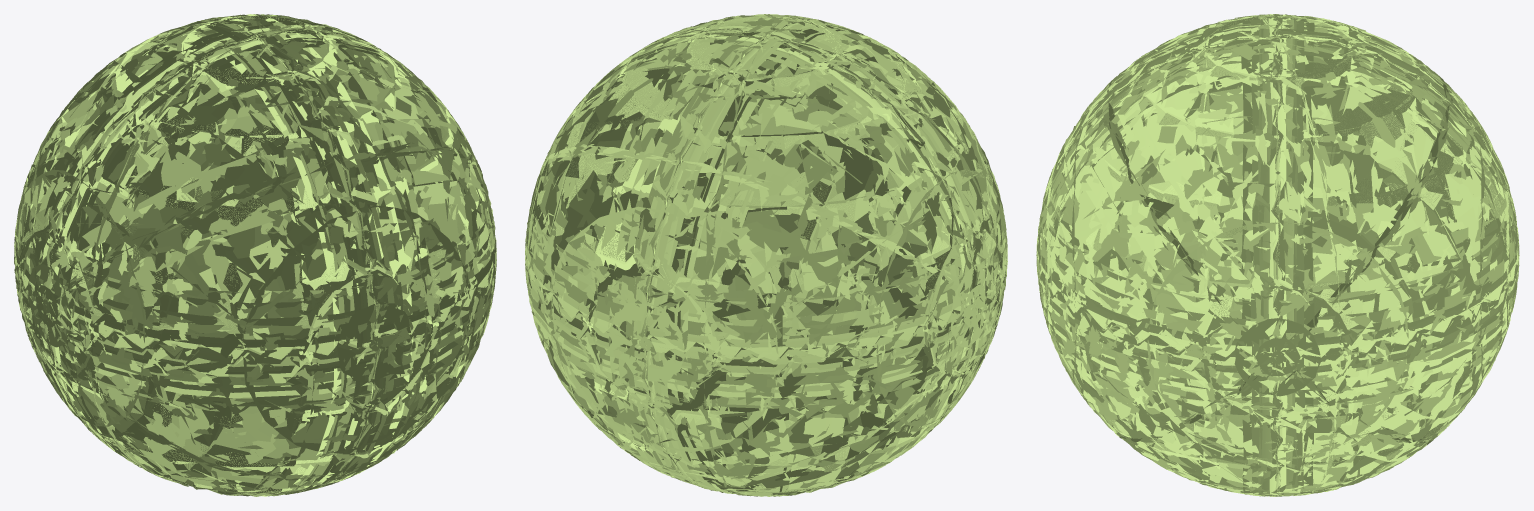
Rendered from piping_frp.glb.
3 renders of one model, left to right at view 1: azimuth 30°, elevation 25°; view 2: azimuth 150°, elevation 25°; view 3: azimuth 270°, elevation 25°, orthographic.
Visible parts, largest first — view 1: piping_frp; view 2: piping_frp; view 3: piping_frp.
Boxes of the visible parts, bbox=[...] form: piping_frp: bbox=[14, 14, 496, 496]; piping_frp: bbox=[525, 14, 1007, 496]; piping_frp: bbox=[1036, 14, 1519, 496].
Bounding box in the file's own units: 2 × 2 × 2.
